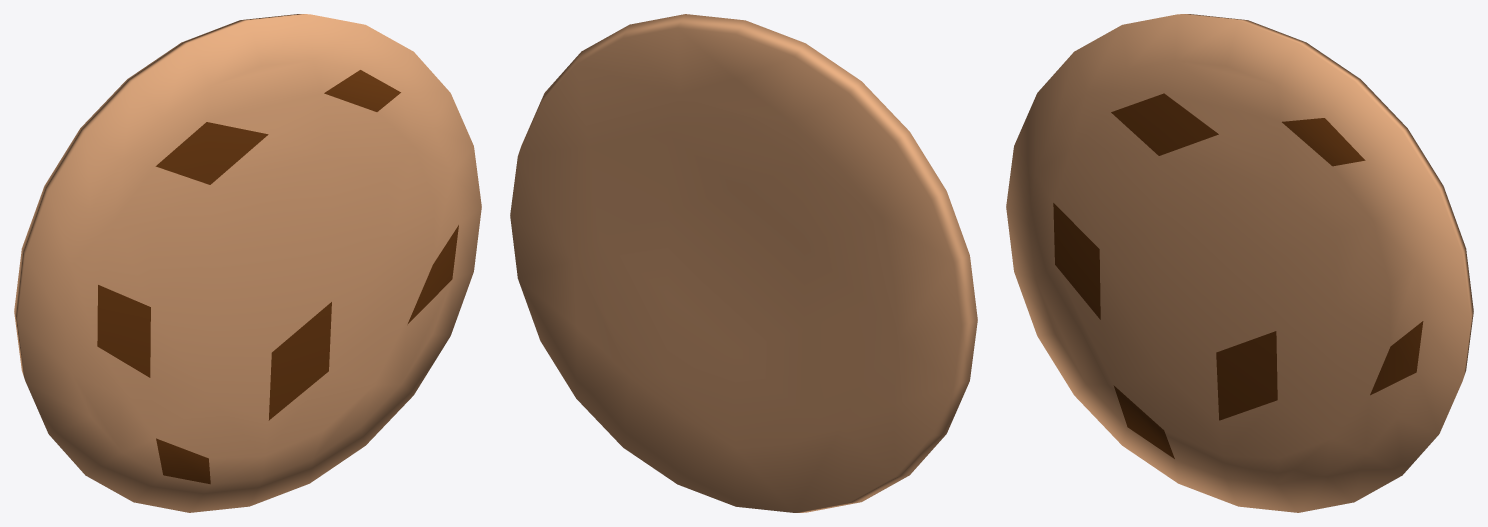
File: SM_Cookie.fbx
3 views of the same model, side by side, from view 1: azimuth 30°, elevation 25°; view 2: azimuth 150°, elevation 25°; view 3: azimuth 330°, elevation 25° (orthographic).
Parts seen in each view (by area): view 1: SM_Cookie; view 2: SM_Cookie; view 3: SM_Cookie.
Part boxes in pixels (x1,y1,x2,y2): SM_Cookie: [14, 14, 481, 512]; SM_Cookie: [510, 14, 977, 512]; SM_Cookie: [1006, 14, 1473, 512].
Size of the model in its own units: 55.41 by 55.41 by 7.07.
